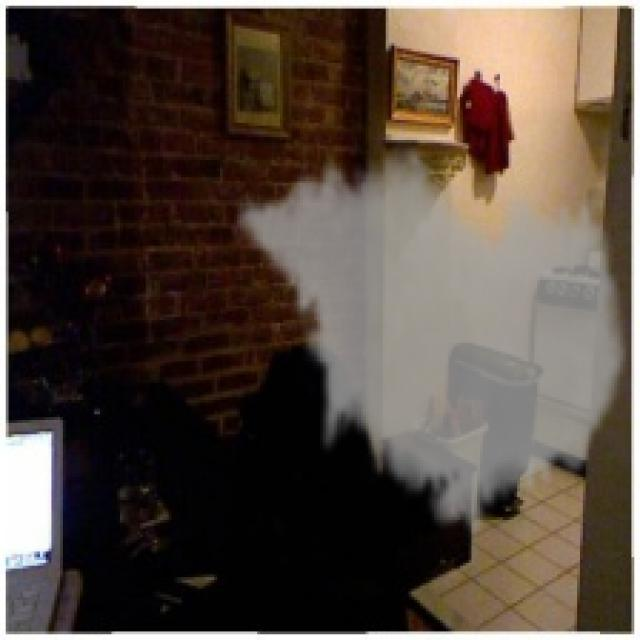smoke: (234, 134, 632, 540)
